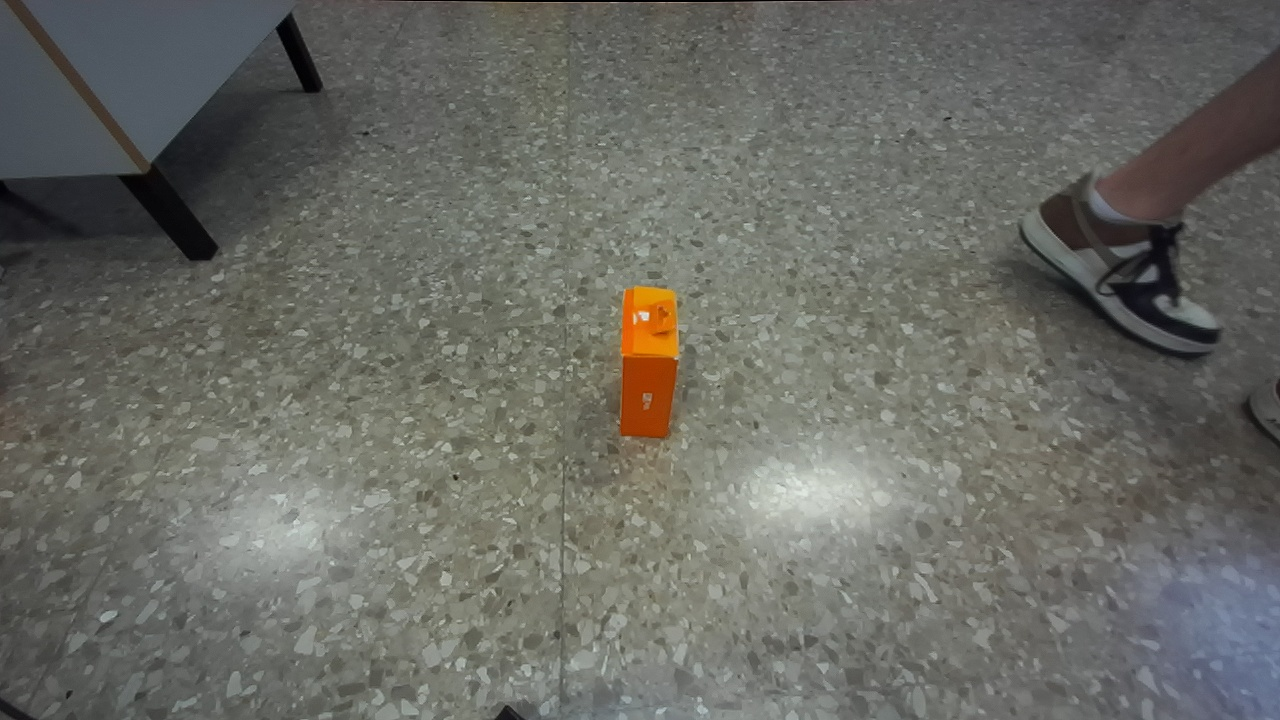caja_pcb: (620, 286, 679, 436)
